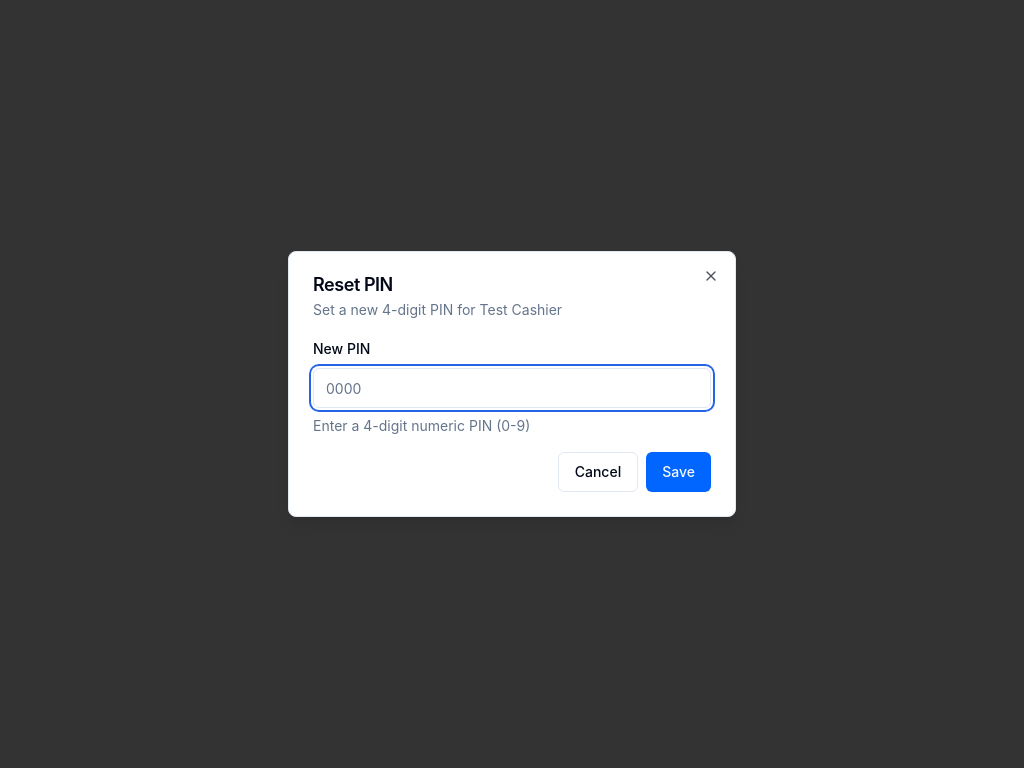
Test case: ResetPINModal Component › PIN Validation › should show validation error for PIN shorter than 4 digits on form submit
Type "123" into the field with test id "pin-input" at (512, 388), box x1=313 y1=368 x2=711 y2=408
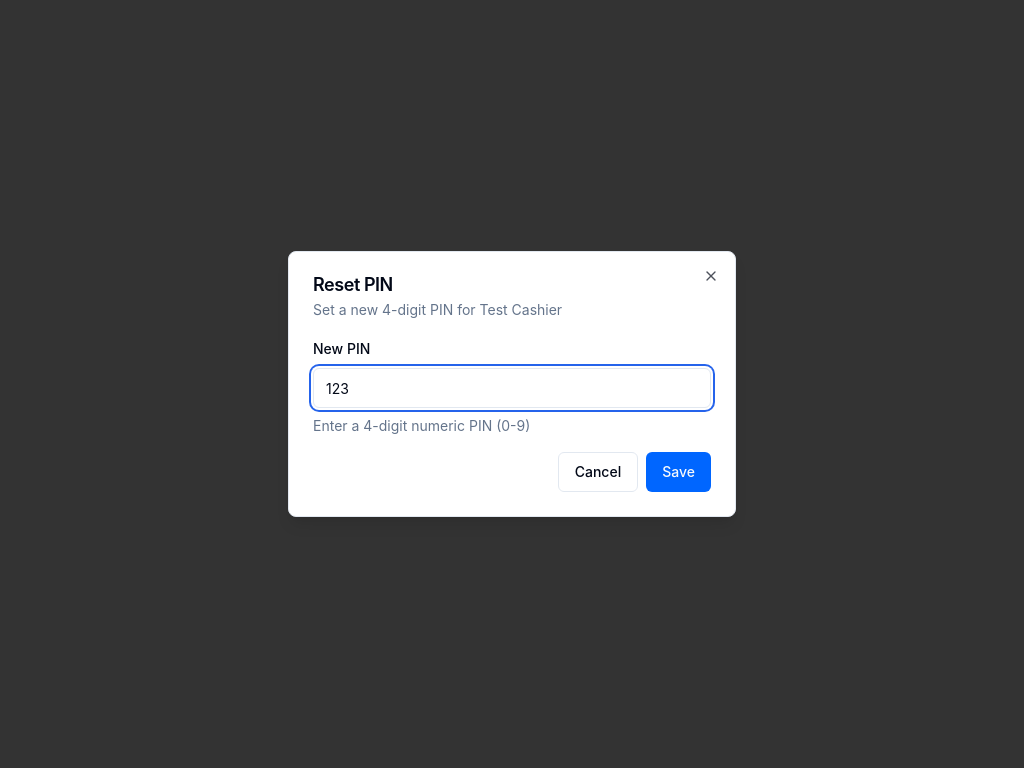
Click the button "Save" at (679, 472), box x1=646 y1=452 x2=711 y2=492
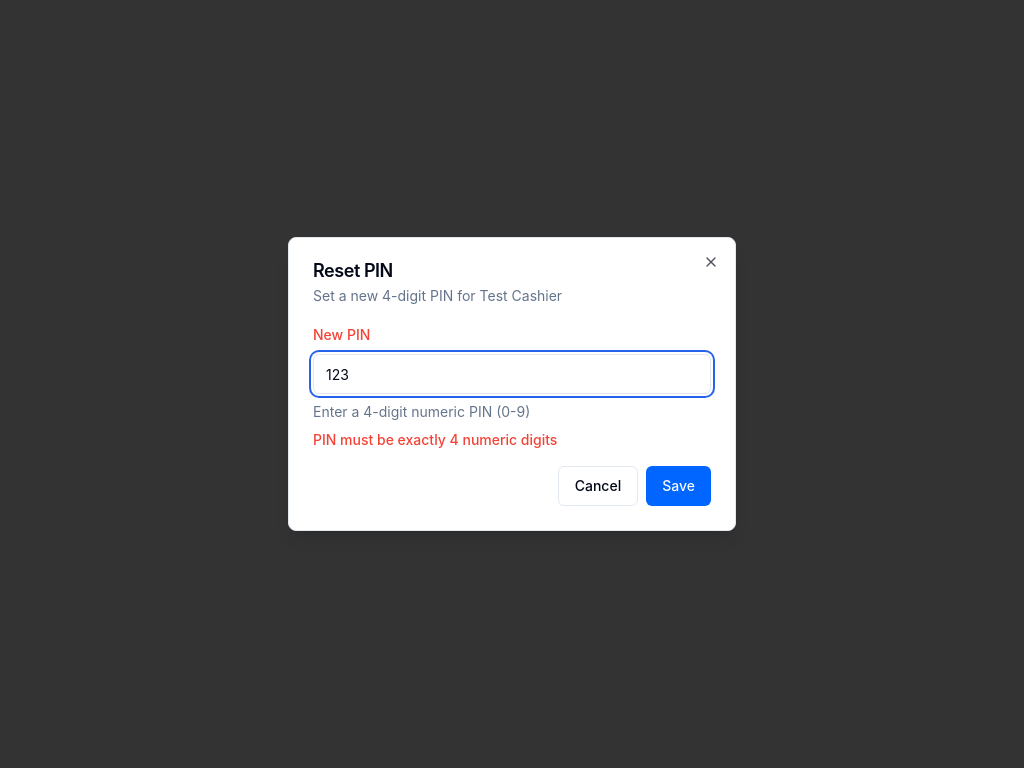
Check: the text "PIN must be exactly 4 numeric digits" is shown, box x1=313 y1=431 x2=557 y2=448
